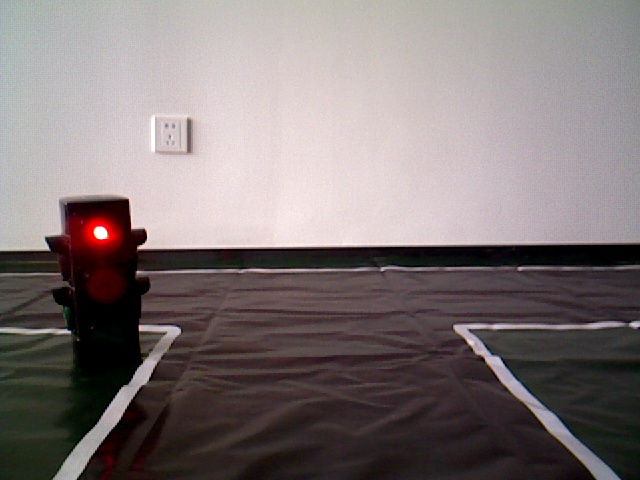red: (59, 198, 140, 360)
